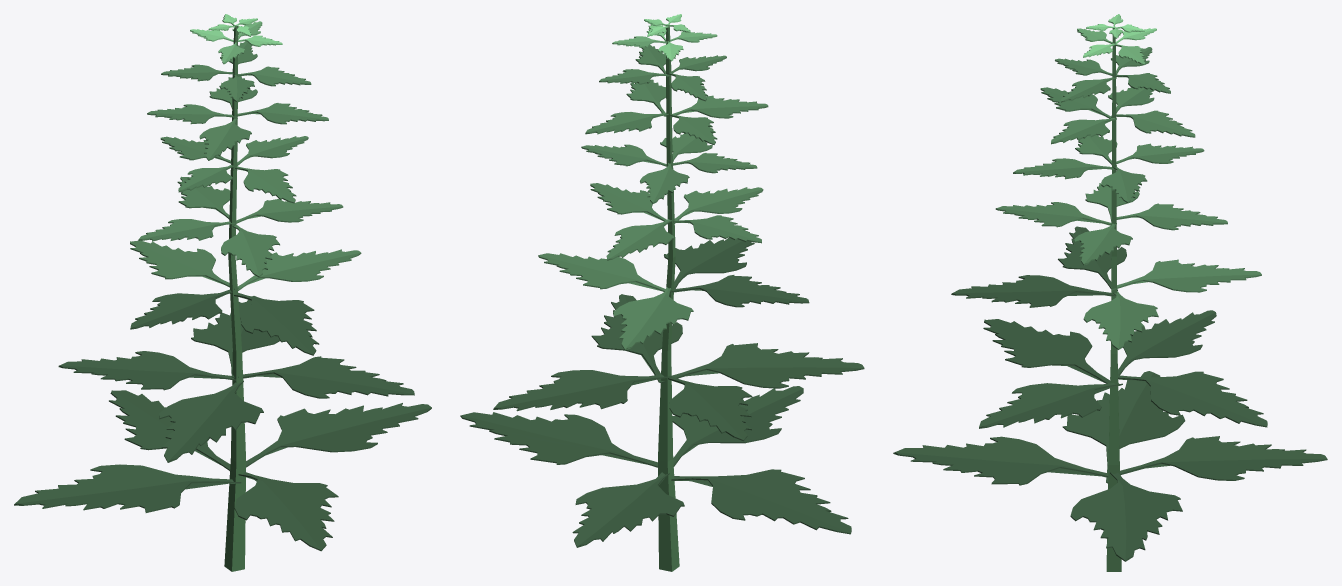
File: lambs-quarters.fbx
3 views of the same model, side by side, from view 1: azimuth 30°, elevation 25°; view 2: azimuth 150°, elevation 25°; view 3: azimuth 270°, elevation 25° (orthographic).
Parts seen in each view (by area): view 1: Plane.016; view 2: Plane.016; view 3: Plane.016.
Part boxes in pixels (left/top/right/bottom): Plane.016: left=14, top=14, right=431, bottom=571; Plane.016: left=460, top=14, right=864, bottom=571; Plane.016: left=893, top=14, right=1327, bottom=571.
Size of the model in its own units: 518 by 665 by 482.
